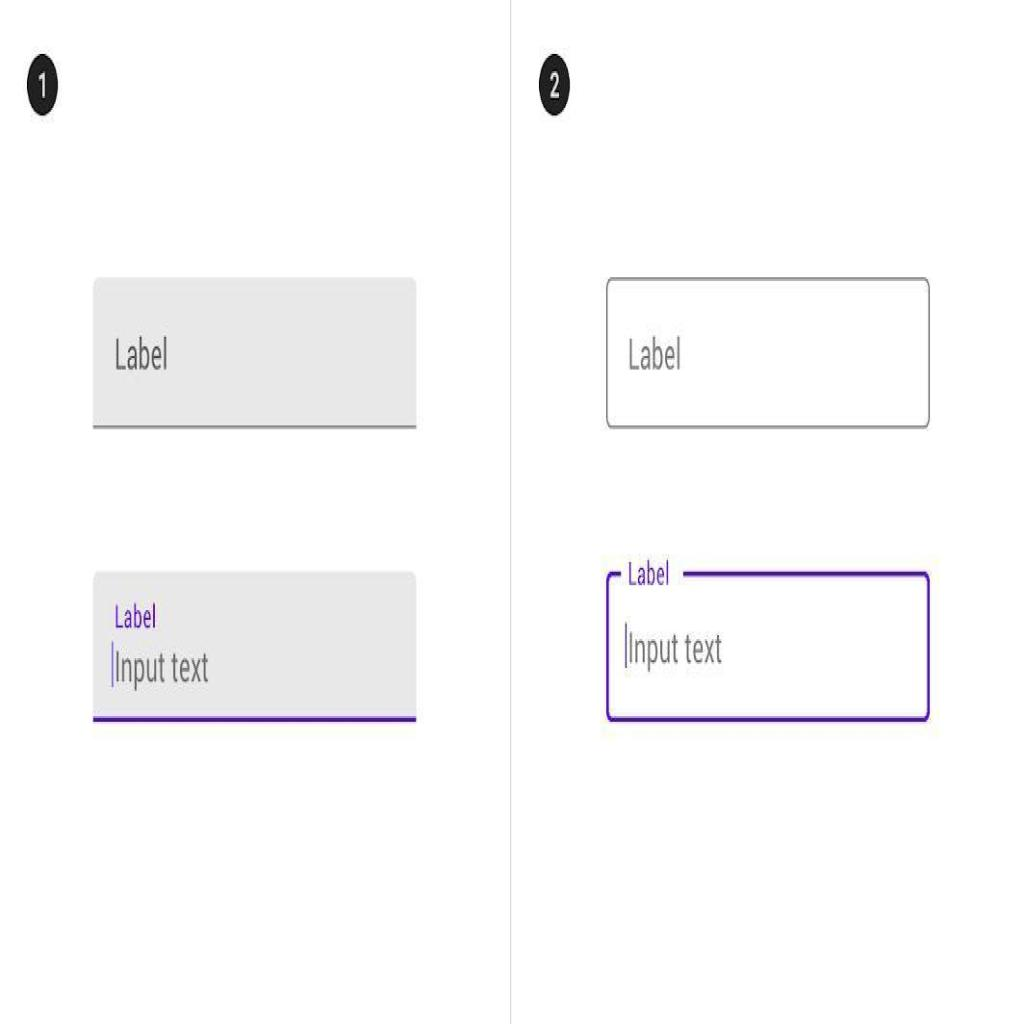input: (606, 275, 931, 433), (91, 566, 417, 722), (91, 275, 417, 429), (606, 570, 930, 722)
label: (624, 554, 676, 595)
